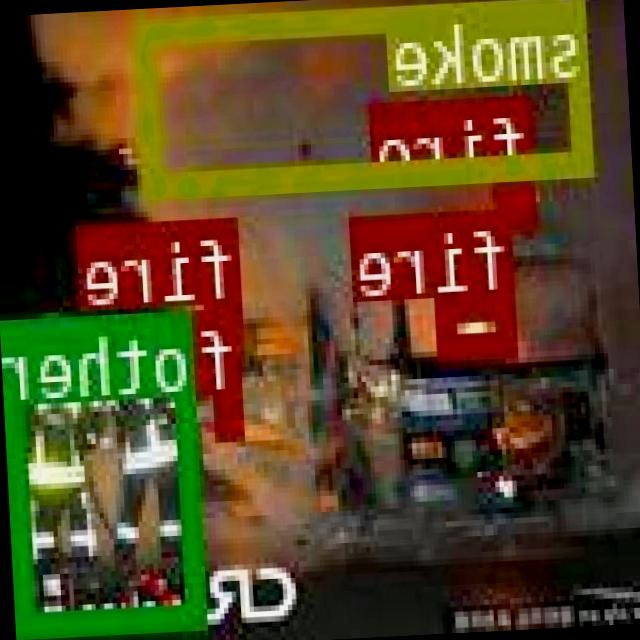fire: (438, 289, 518, 356), (498, 180, 538, 227), (210, 300, 247, 346), (219, 391, 246, 432)
smoke: (140, 0, 595, 192)
